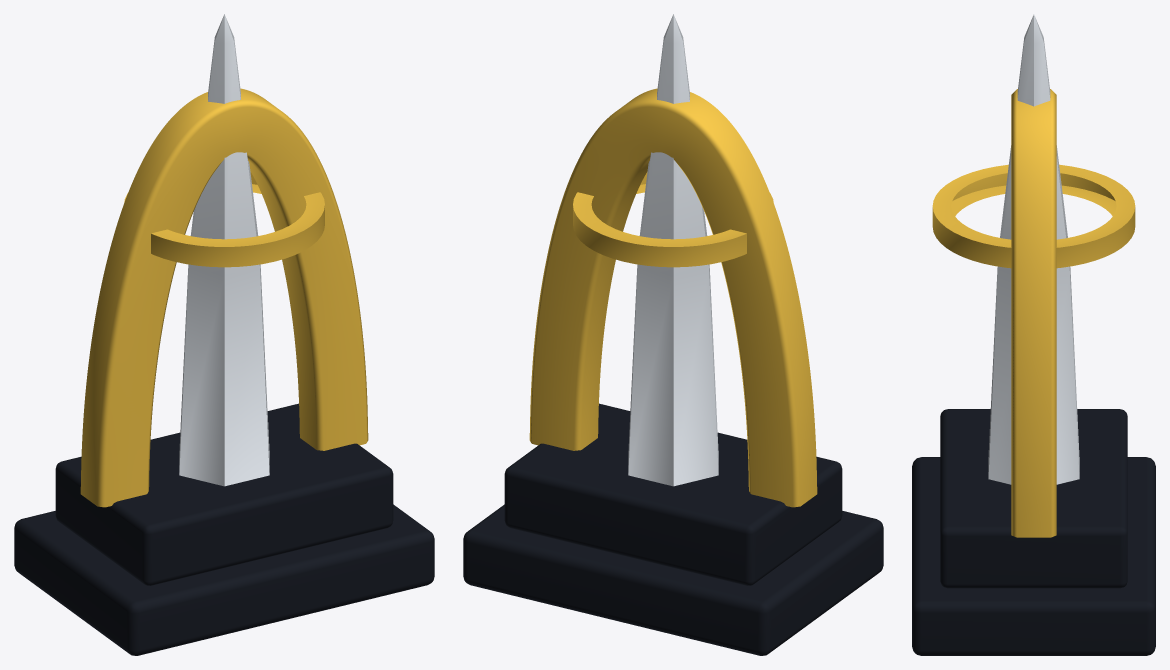
Rendered from gp_trophy_monaco.glb.
3 views of the same model, side by side, from view 1: azimuth 30°, elevation 25°; view 2: azimuth 150°, elevation 25°; view 3: azimuth 270°, elevation 25° (orthographic).
Parts seen in each view (by area): view 1: GP2_Arch, GP2_Base_2, GP2_Base_1, GP2_Spire, GP2_Halo; view 2: GP2_Arch, GP2_Base_2, GP2_Base_1, GP2_Spire, GP2_Halo; view 3: GP2_Base_2, GP2_Base_1, GP2_Arch, GP2_Spire, GP2_Halo.
Part boxes in pixels (x1,y1,x2,y2): GP2_Arch: [80, 88, 368, 507]; GP2_Base_2: [55, 403, 393, 585]; GP2_Base_1: [14, 504, 434, 655]; GP2_Spire: [179, 14, 269, 486]; GP2_Halo: [124, 172, 324, 267]; GP2_Arch: [529, 88, 817, 507]; GP2_Base_2: [504, 403, 842, 585]; GP2_Base_1: [463, 504, 883, 655]; GP2_Spire: [628, 14, 718, 486]; GP2_Halo: [573, 172, 773, 267]; GP2_Base_2: [940, 409, 1127, 588]; GP2_Base_1: [912, 457, 1155, 655]; GP2_Arch: [1011, 89, 1056, 537]; GP2_Spire: [988, 14, 1079, 484]; GP2_Halo: [932, 164, 1135, 268].
Size of the model in its own units: 0.19 by 0.335 by 0.13.
